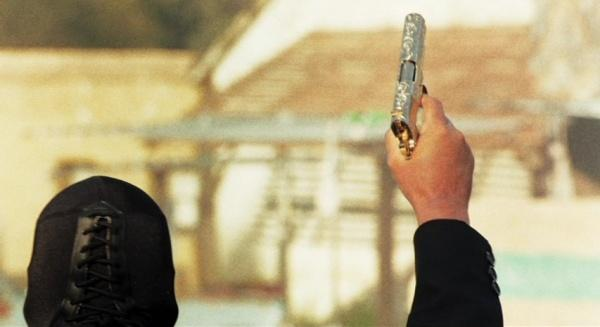Gun: (388, 12, 428, 160)
